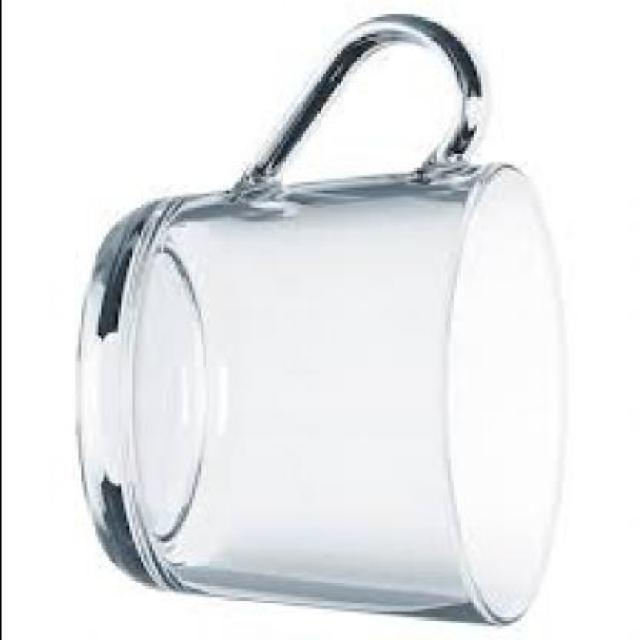glass: (80, 17, 572, 629)
